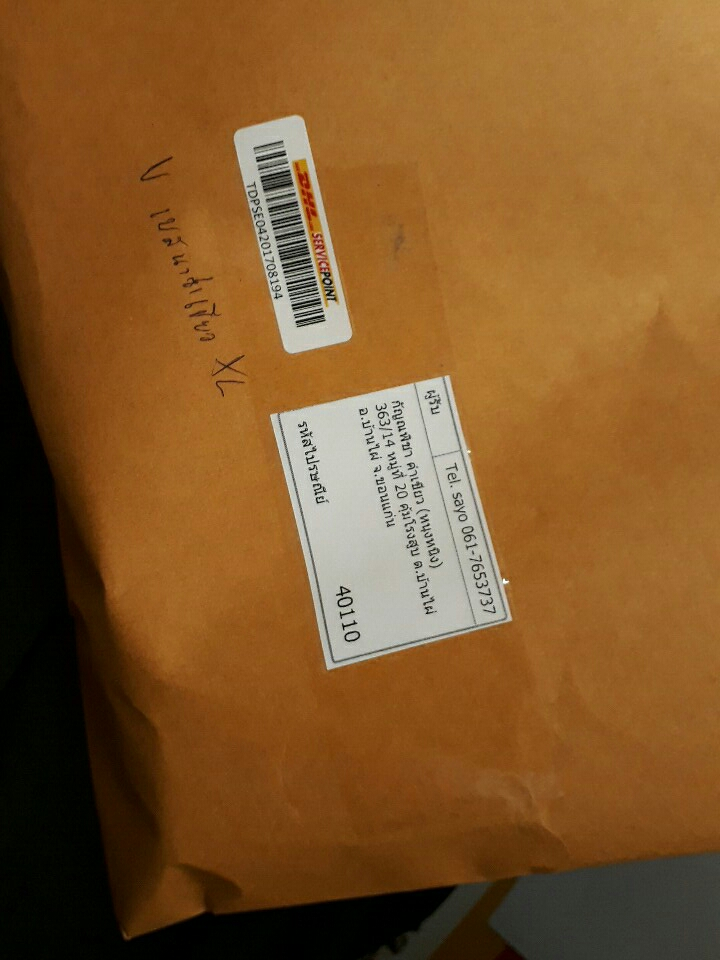ba: (224, 107, 358, 366)
txt: (296, 383, 501, 649)
